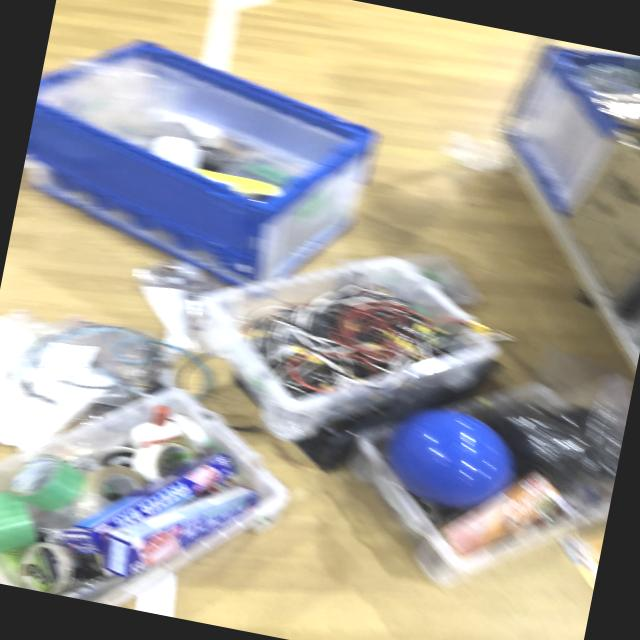blue_ball: (384, 402, 516, 508)
